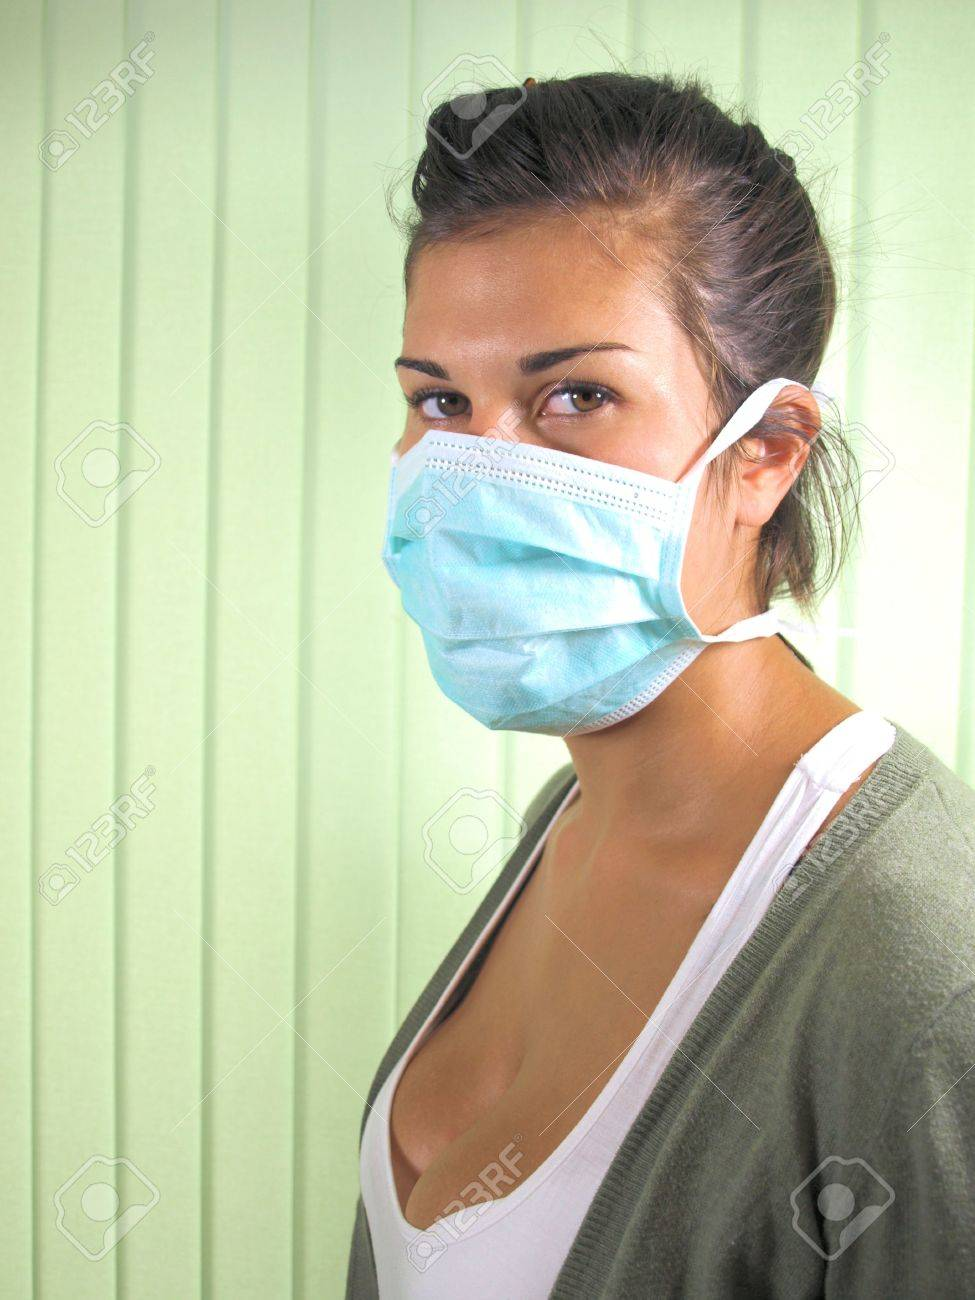surgical: (374, 429, 735, 740)
